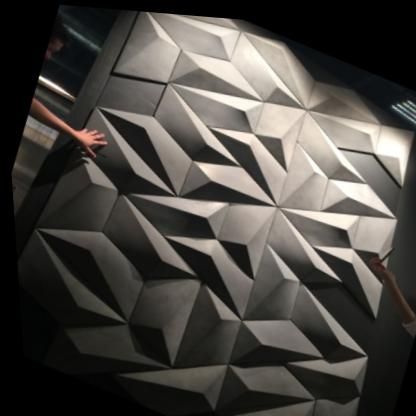Futech tiles: (33, 11, 416, 416)
